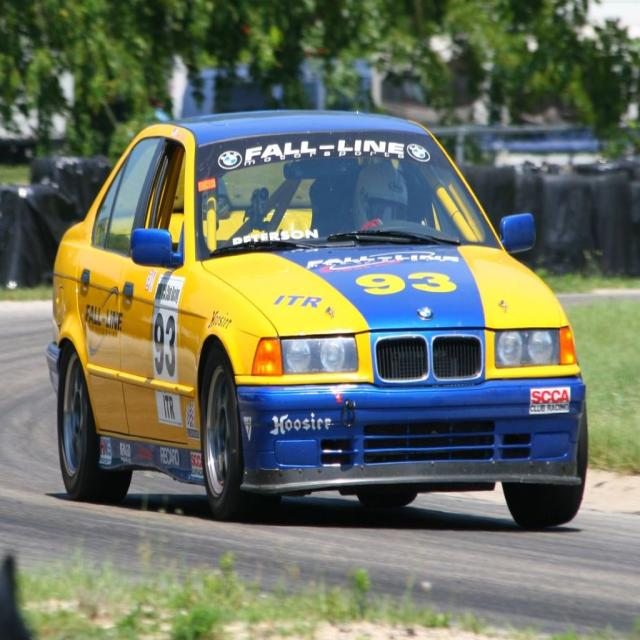car: (39, 106, 589, 527)
